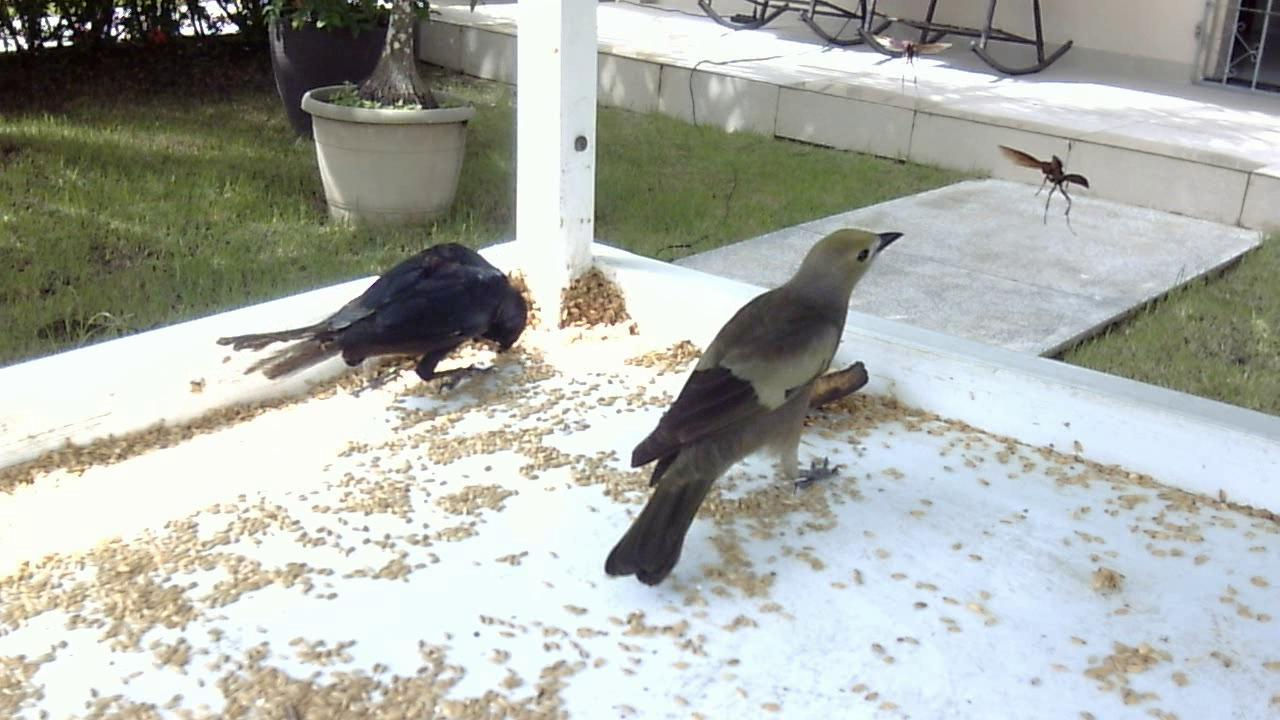chupim: (215, 236, 540, 412)
sanhaco_do_coqueiro: (595, 211, 907, 598)
